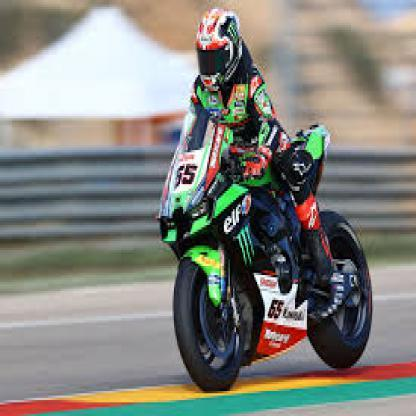Motorcycle: (148, 130, 378, 402)
